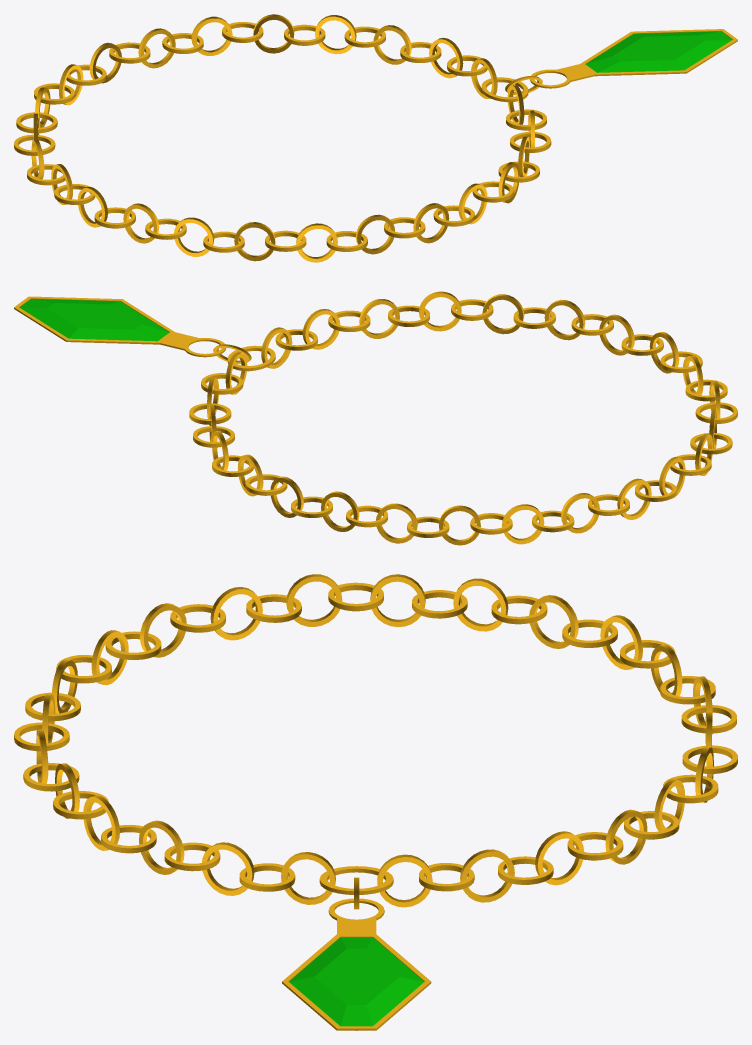
The model's file is Necklace_With_Pendant_AG.FBX.
3 renders of one model, top to bottom at view 1: azimuth 30°, elevation 25°; view 2: azimuth 150°, elevation 25°; view 3: azimuth 270°, elevation 25°, orthographic. The views are drawn at different scales.
Parts seen in each view (by area): view 1: PendantNecklace, Pendant; view 2: PendantNecklace, Pendant; view 3: PendantNecklace, Pendant.
Boxes of the visible parts, x1,y1,x2,y2 form: PendantNecklace: (14,14,551,262); Pendant: (505,29,737,95); PendantNecklace: (189,291,737,545); Pendant: (14,296,251,363); PendantNecklace: (14,574,737,907); Pendant: (282,877,431,1030).
Bounding box in the file's own units: 18.8 × 1 × 12.97.
